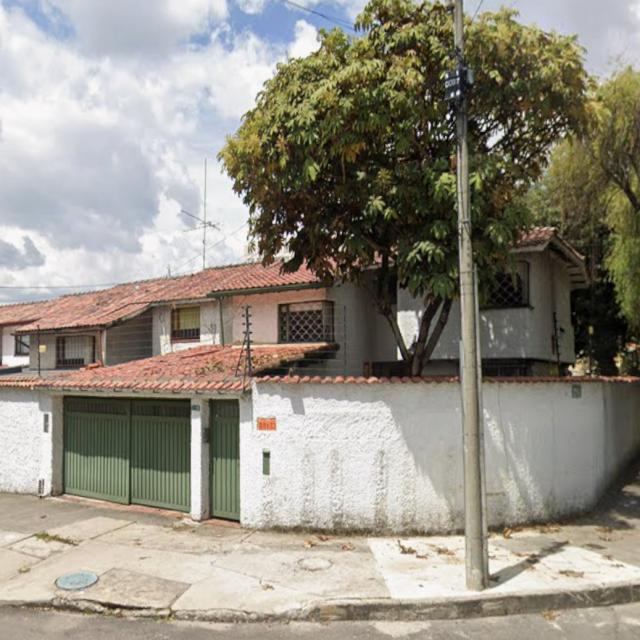fachada: (0, 264, 463, 532), (5, 262, 403, 375), (479, 227, 588, 376), (0, 302, 49, 369)
poste: (454, 0, 488, 591)
